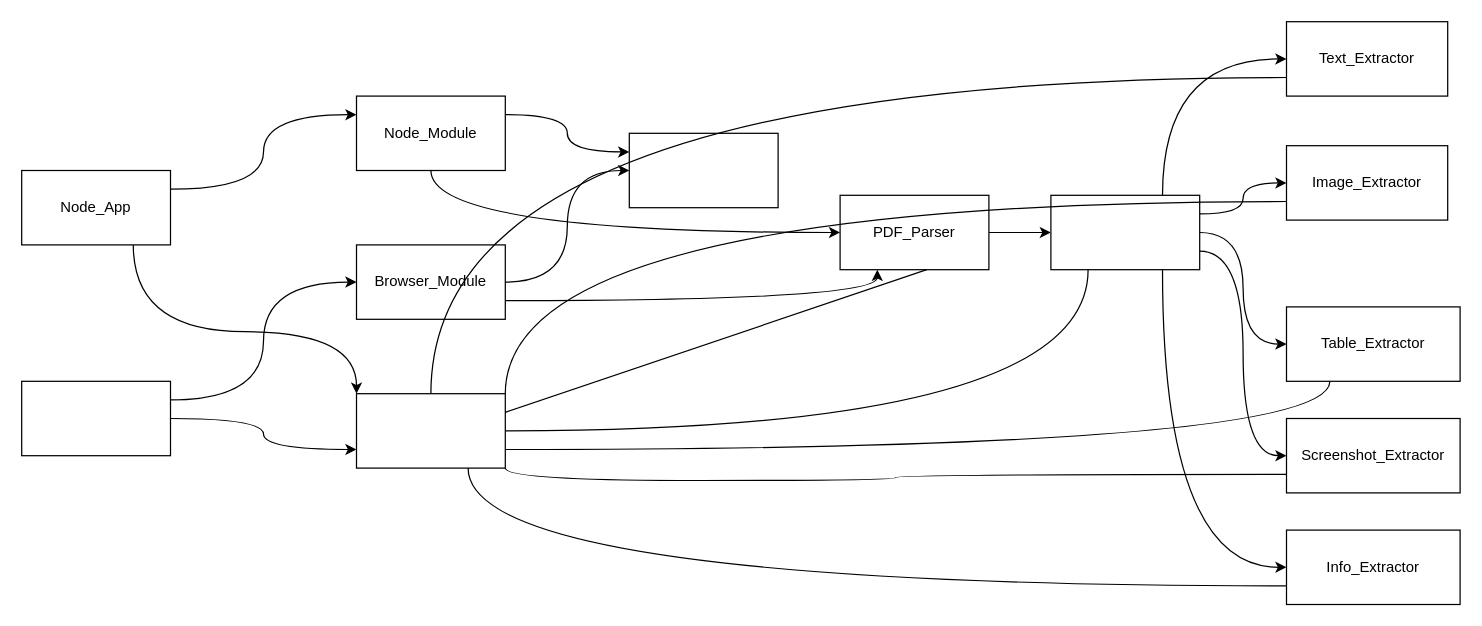
This 1482x626 diagram has some shape labels left out. The shapes that lost their labels are listed below. From the top down, each one's centre as x and y in pixels, then its label:
pixel 703 170: Source_Loader
pixel 1125 232: PDF_Session
pixel 95 418: Browser_App
pixel 430 430: Core_Module
